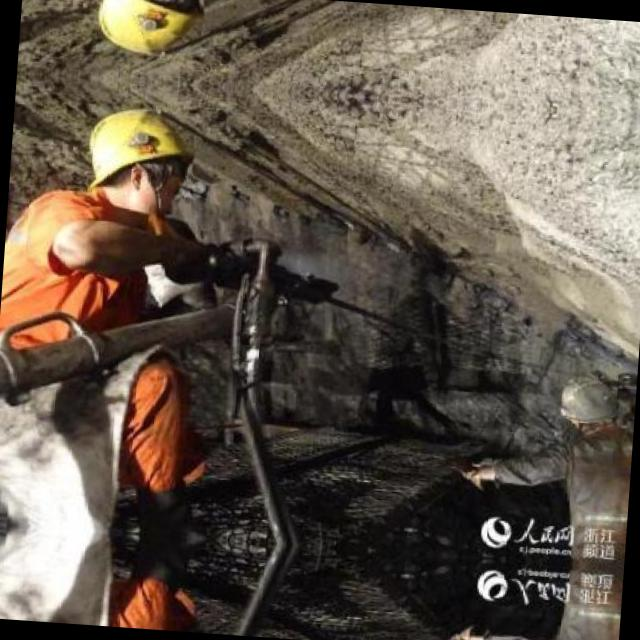helmet: (68, 97, 205, 230), (79, 0, 215, 65), (544, 367, 628, 437)
